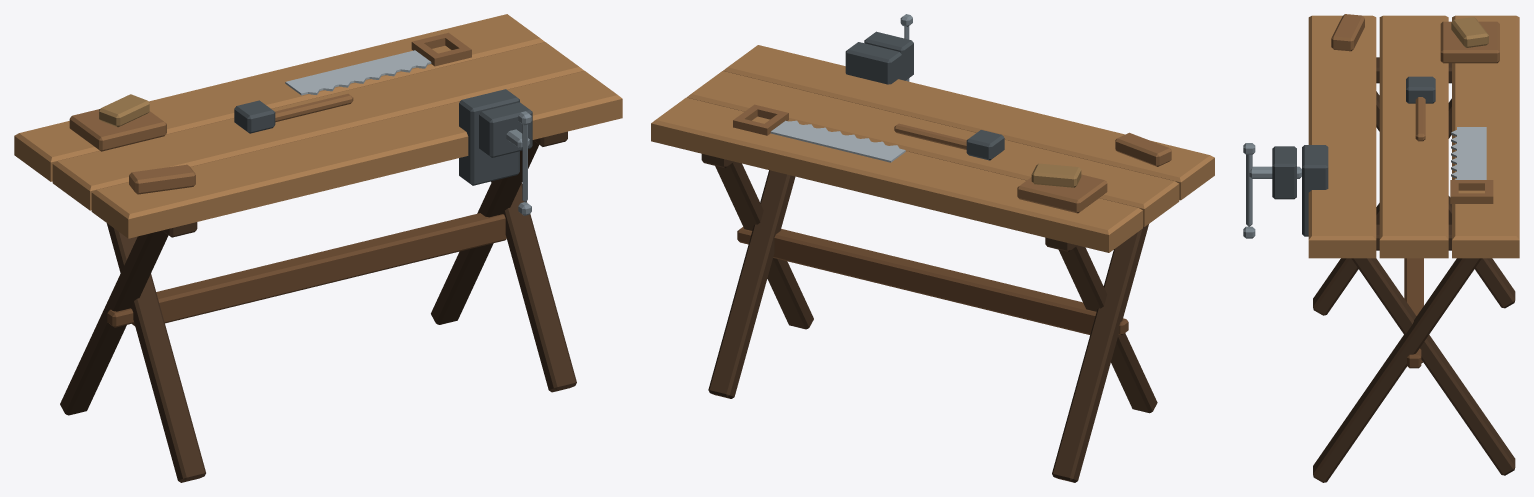
File: mdvl_interiors_workbench_01.glb
3 views of the same model, side by side, from view 1: azimuth 30°, elevation 25°; view 2: azimuth 150°, elevation 25°; view 3: azimuth 270°, elevation 25° (orthographic). The views are drawn at different scales.
Parts seen in each view (by area): view 1: mdvl_interiors_workbench_01; view 2: mdvl_interiors_workbench_01; view 3: mdvl_interiors_workbench_01.
Boxes of the visible parts, x1,y1,x2,y2 form: mdvl_interiors_workbench_01: [14, 14, 622, 482]; mdvl_interiors_workbench_01: [651, 14, 1214, 482]; mdvl_interiors_workbench_01: [1243, 14, 1519, 482].
Bounding box in the file's own units: 1.6 × 1.01 × 0.838.
1 material, 1 textured.
